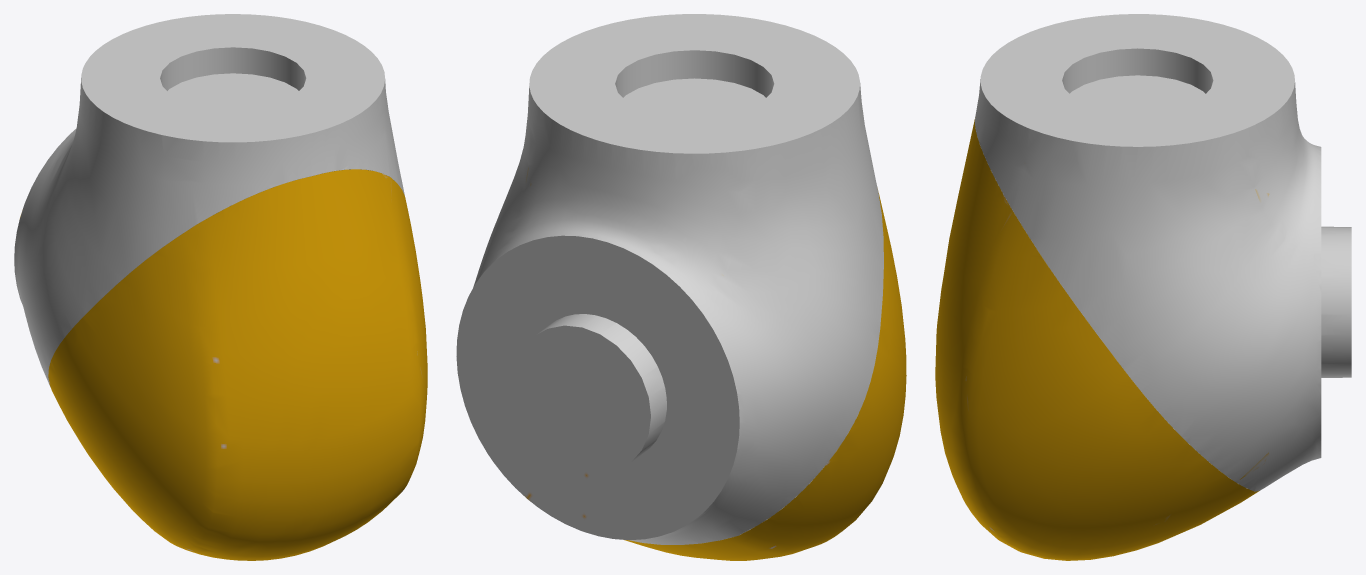
3 views of the same model, side by side, from view 1: azimuth 30°, elevation 25°; view 2: azimuth 150°, elevation 25°; view 3: azimuth 270°, elevation 25° (orthographic). The views are drawn at different scales.
Visible parts, largest first — view 1: Link6_14_ShapeIndexedFaceSet.006; view 2: Link6_14_ShapeIndexedFaceSet.006; view 3: Link6_14_ShapeIndexedFaceSet.006.
Part boxes in pixels (x1=…): Link6_14_ShapeIndexedFaceSet.006: x1=14, y1=14, x2=427, y2=560; Link6_14_ShapeIndexedFaceSet.006: x1=456, y1=14, x2=906, y2=560; Link6_14_ShapeIndexedFaceSet.006: x1=935, y1=14, x2=1351, y2=560.
Bounding box in the file's own units: 0.1322 × 0.1673 × 0.1376.
1 material, 1 textured.
